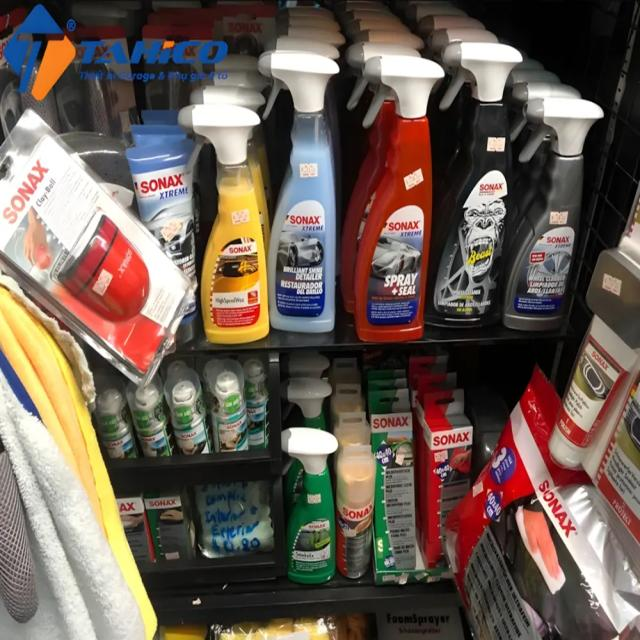winwinshield_washer: (432, 45, 523, 333), (352, 52, 440, 341), (514, 98, 604, 336), (268, 44, 341, 335), (198, 98, 266, 340), (278, 421, 338, 584)
